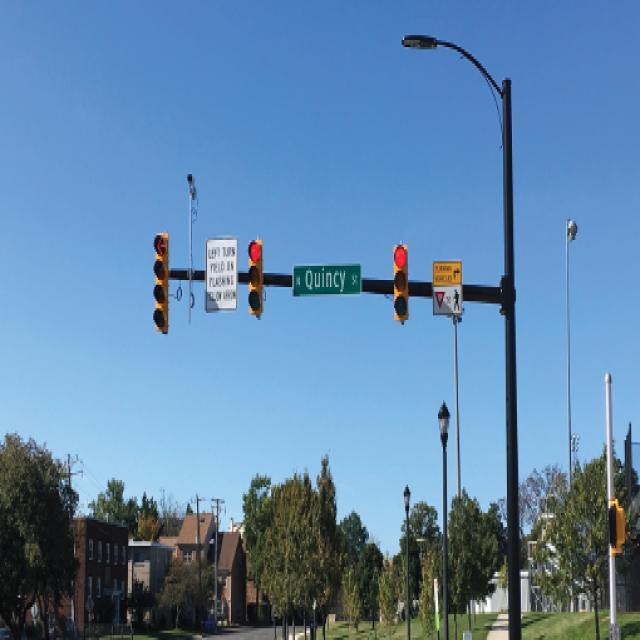Electric pole: (403, 35, 522, 640), (439, 402, 451, 640)
